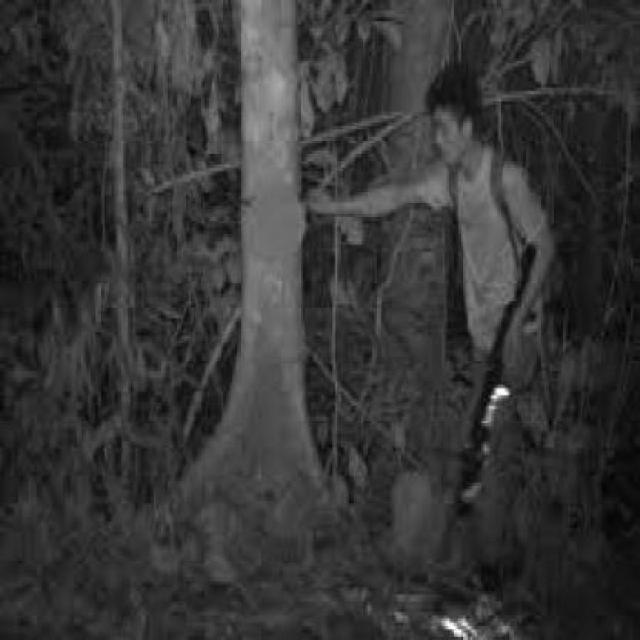poacher: (393, 38, 574, 562)
weapon: (451, 242, 532, 529)
